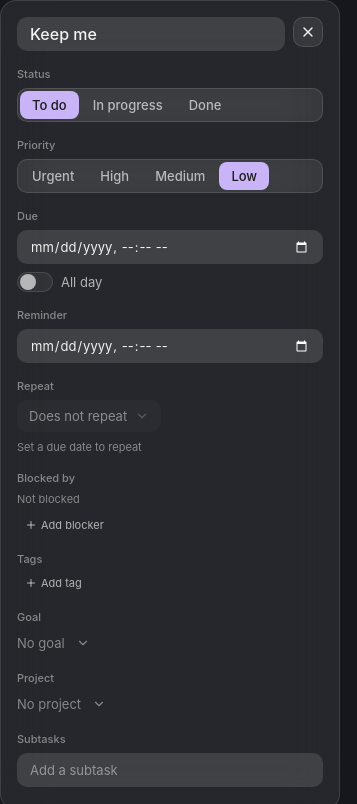
TaskDetailPanel: title and notes › puts the old title back when it is emptied, and saves nothing
Clear the field named "Title". click: (151, 34)
box: [17,17,285,51]
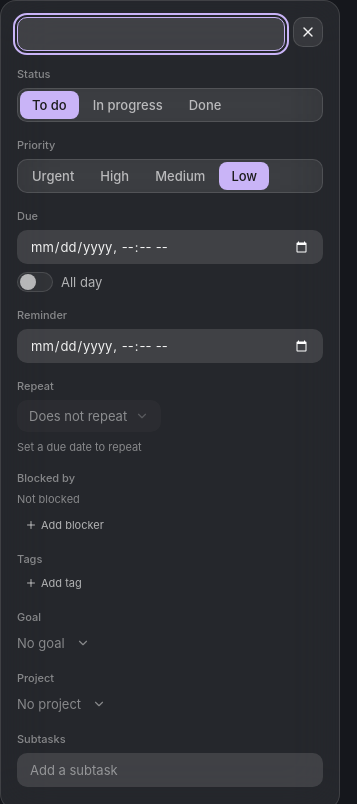
Press Tab
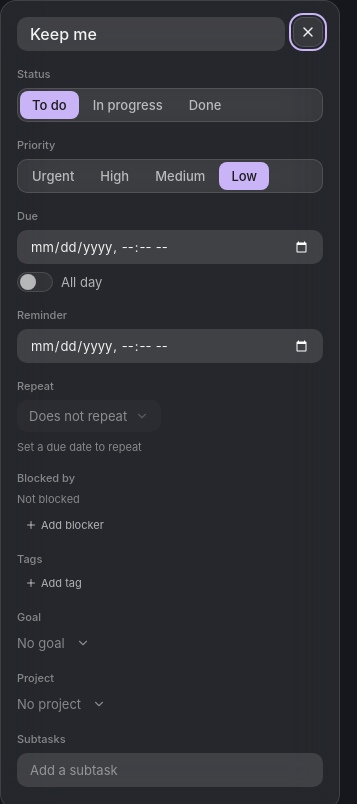
Now the field named "Title" holds "Keep me", box [17,17,285,51]
